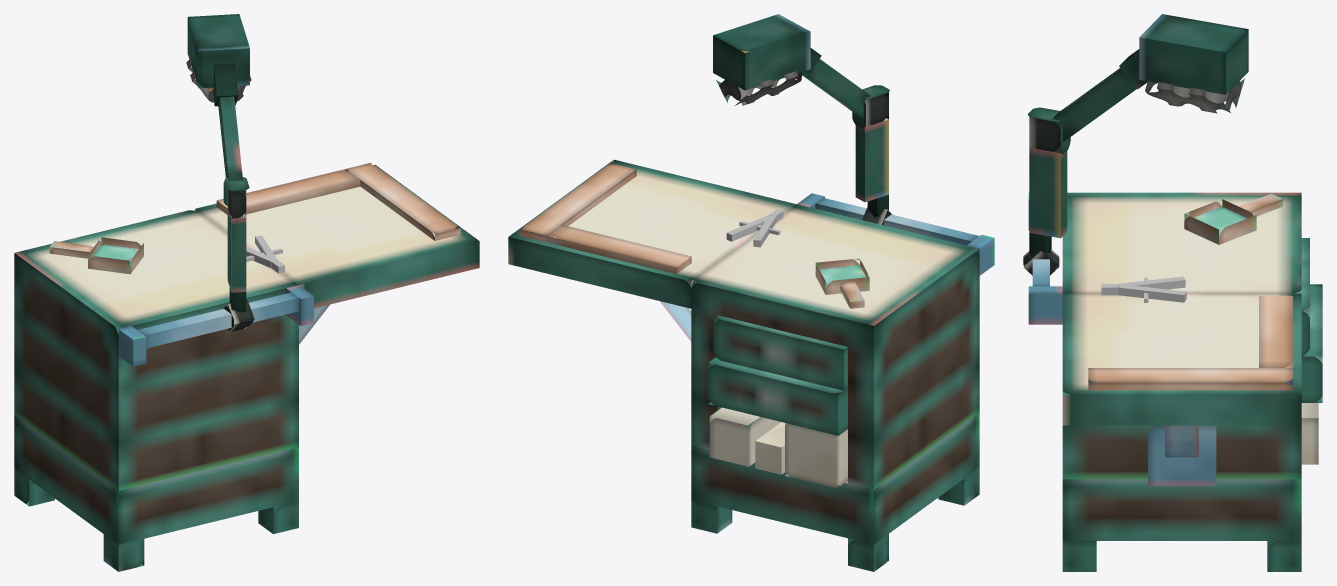
Rendered from map_workplace.obj.
3 renders of one model, left to right at view 1: azimuth 30°, elevation 25°; view 2: azimuth 150°, elevation 25°; view 3: azimuth 270°, elevation 25°, orthographic. The views are drawn at different scales.
Parts seen in each view (by area): view 1: cube; view 2: cube; view 3: cube.
Boxes of the visible parts, x1,y1,x2,y2 form: cube: (14,14,479,571); cube: (508,14,994,571); cube: (1023,14,1322,571).
Bounding box in the file's own units: 1.75 × 2.13 × 1.1.
